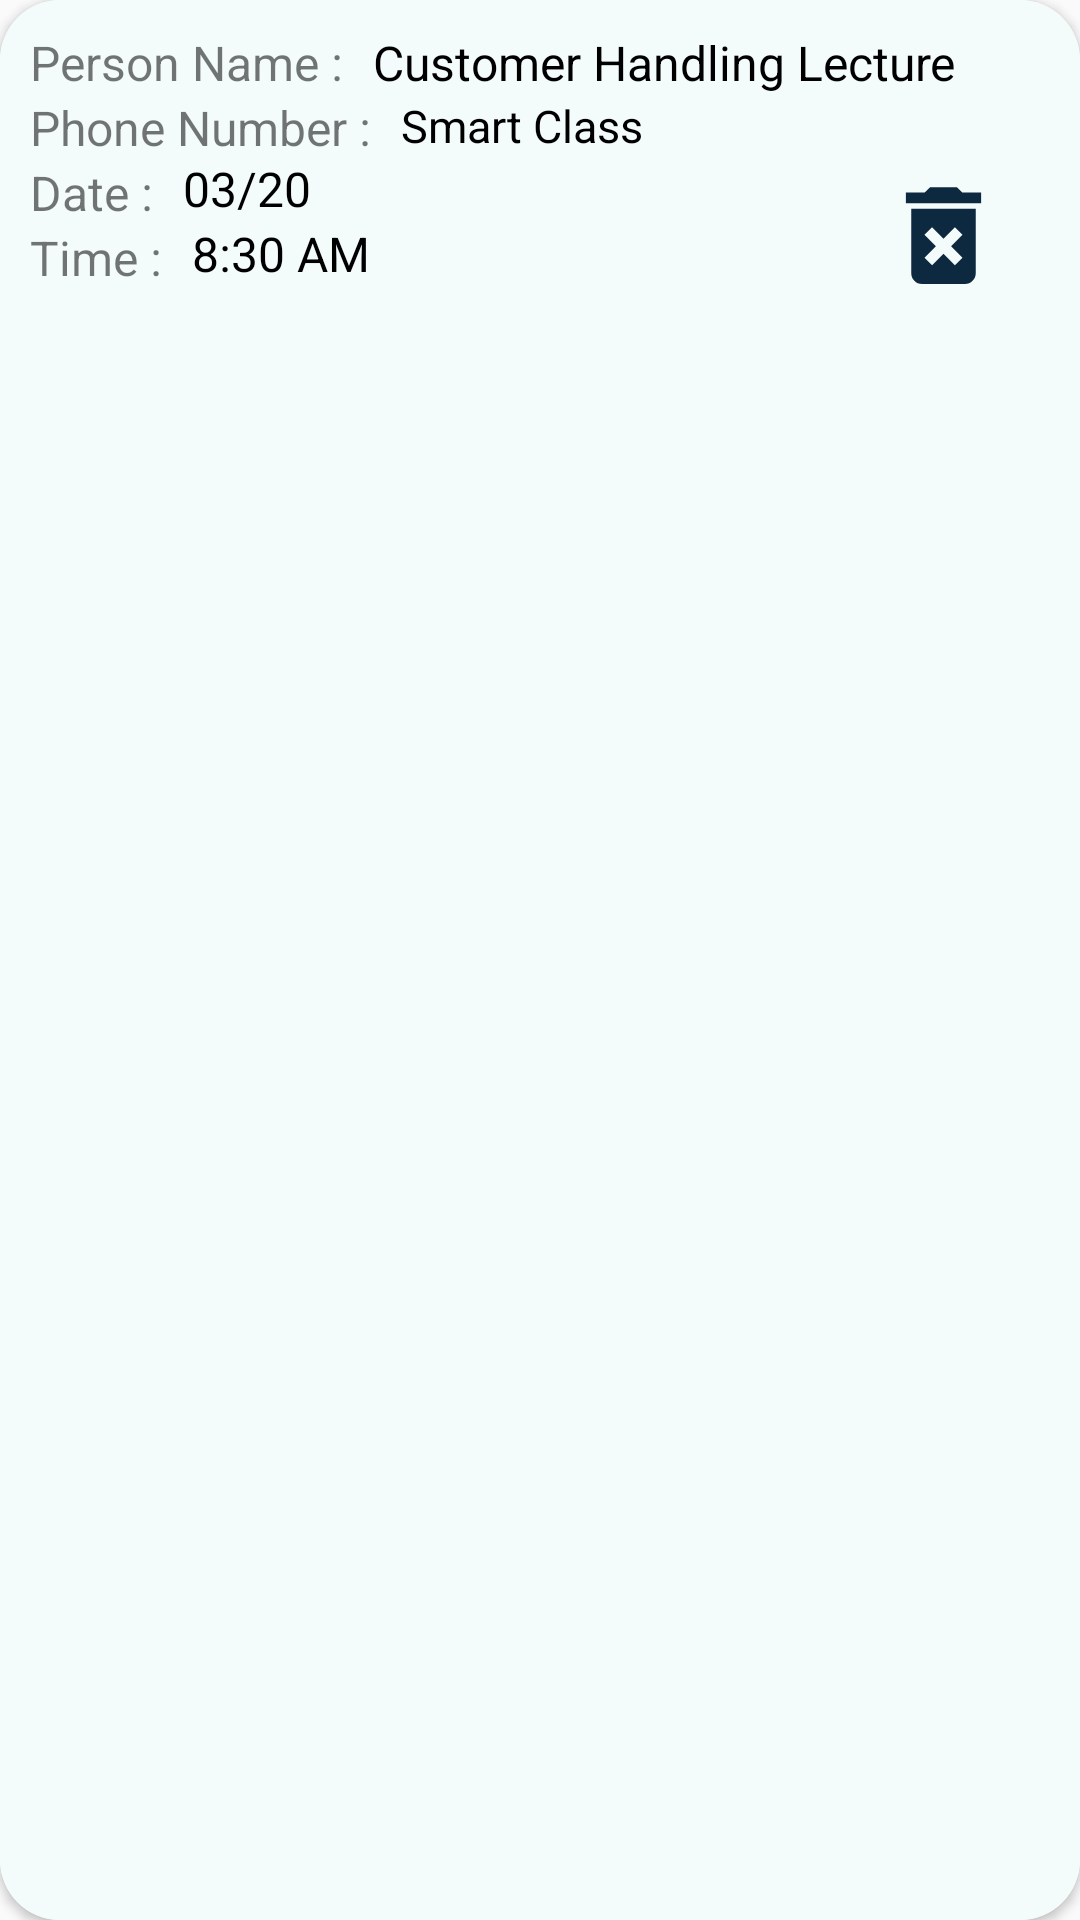

Locate icon controls on the screen. Image size 1080×1920, boxes as bbox=[x1, y1, x2, y2].
delete forever: bbox=[905, 187, 982, 284]
